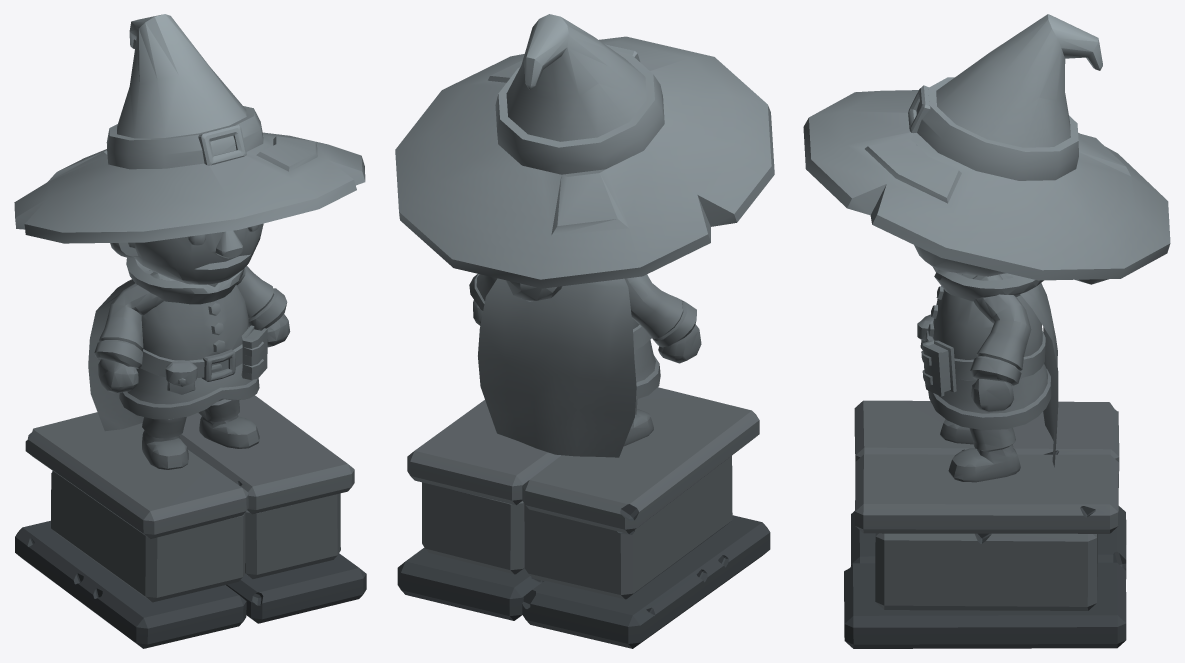
Rendered from statue_mage.glb.
3 renders of one model, left to right at view 1: azimuth 30°, elevation 25°; view 2: azimuth 150°, elevation 25°; view 3: azimuth 270°, elevation 25°, orthographic. The views are drawn at different scales.
Parts seen in each view (by area): view 1: statue_mage; view 2: statue_mage; view 3: statue_mage.
Boxes of the visible parts, x1=… form: statue_mage: x1=14, y1=14, x2=366, y2=648; statue_mage: x1=395, y1=14, x2=774, y2=648; statue_mage: x1=803, y1=14, x2=1170, y2=648.
Bounding box in the file's own units: 2.1 × 3.56 × 2.05.
1 material, 1 textured.
